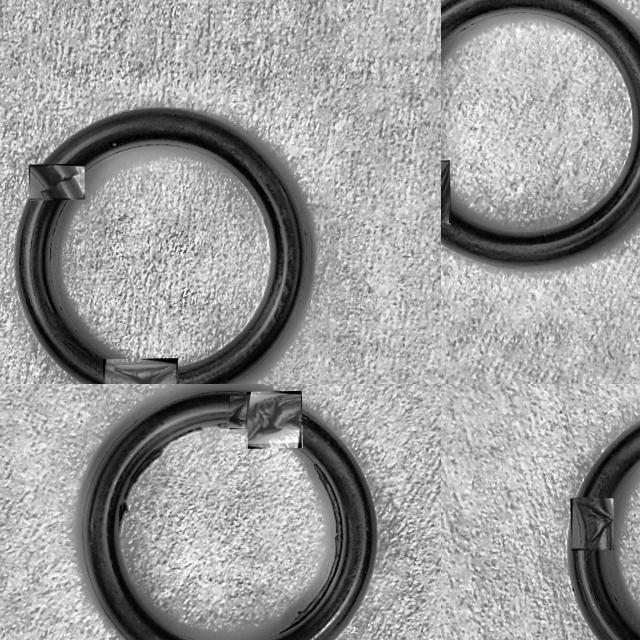切割缺陷: (247, 394, 301, 443), (572, 498, 613, 549), (105, 365, 176, 384), (229, 396, 259, 428), (441, 162, 450, 222)
挤压缺陷: (29, 166, 83, 198)
裂纹: (283, 463, 342, 631), (118, 426, 203, 535), (217, 423, 239, 429)
